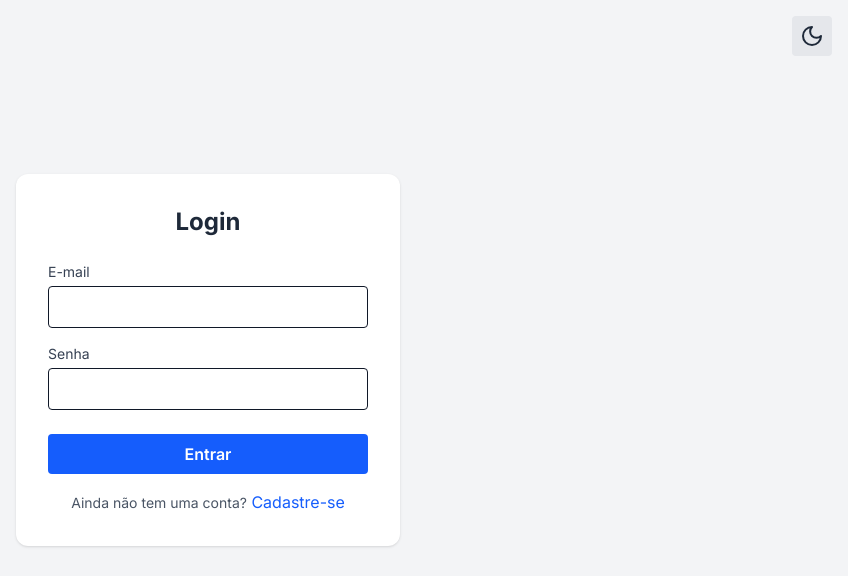
Test: Login Page › Form Validation › should show validation error for invalid email
// Type invalid email
In the field: (208, 307) x1=48 y1=286 x2=368 y2=328, type "invalid-email"
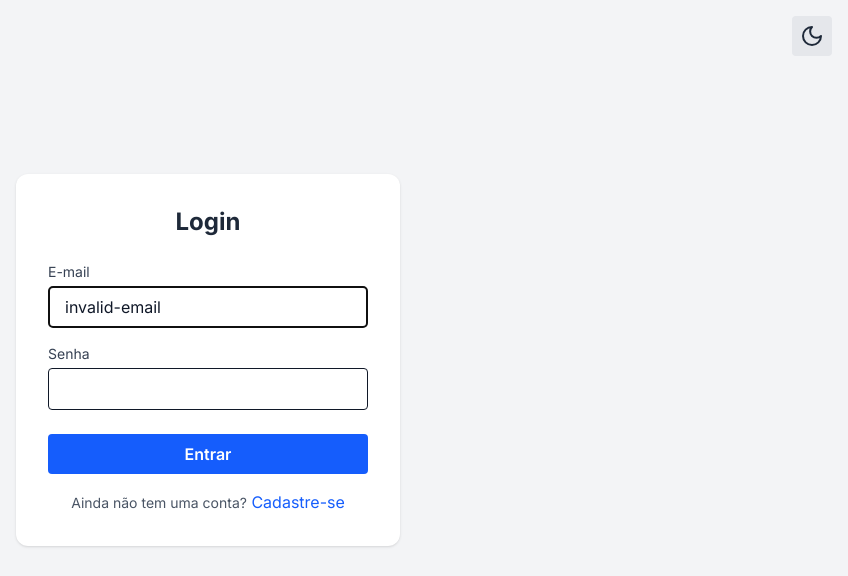
In the password field: (208, 389) x1=48 y1=368 x2=368 y2=410, type "validpassword123"
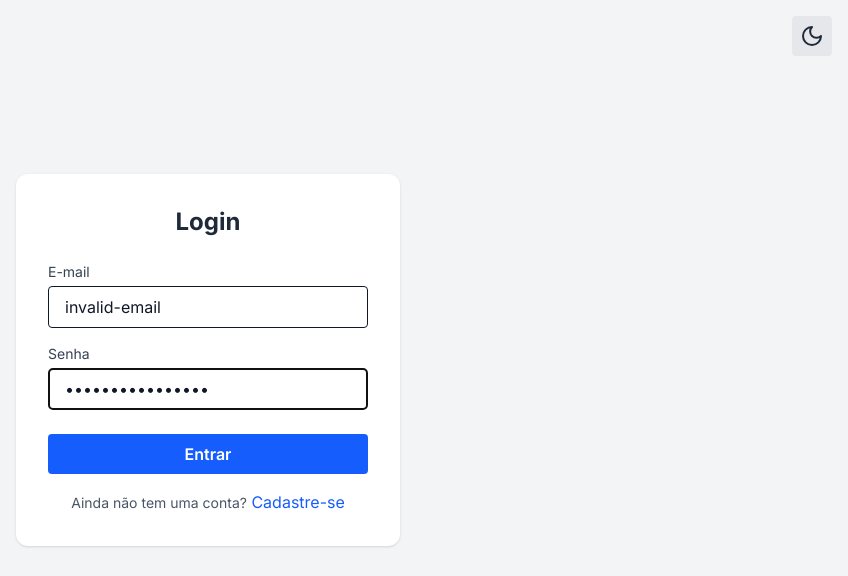
Submit the form, box x1=16 y1=174 x2=400 y2=546
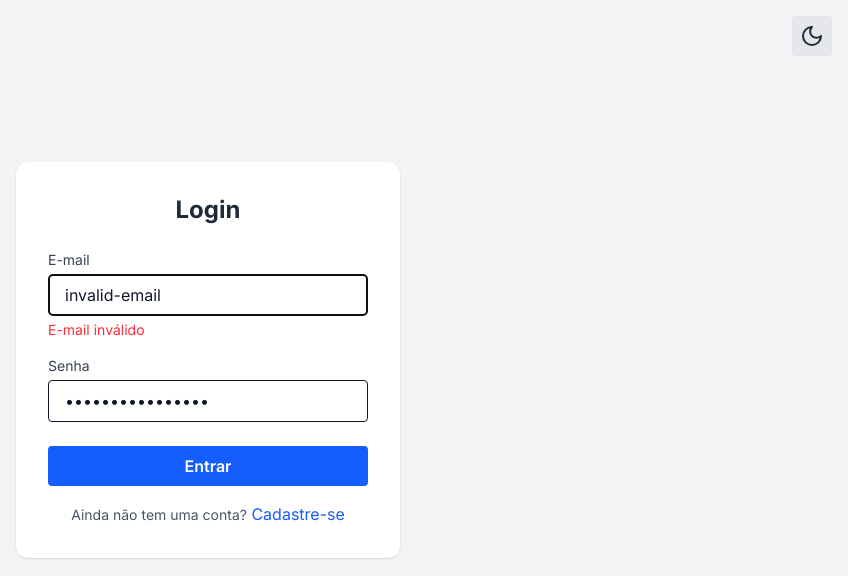
Now the text "E-mail inválido" is shown, box x1=48 y1=321 x2=145 y2=338
